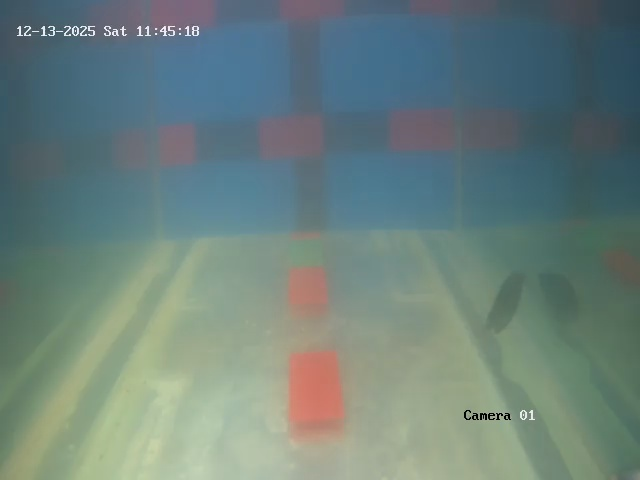fish: (480, 272, 535, 333)
